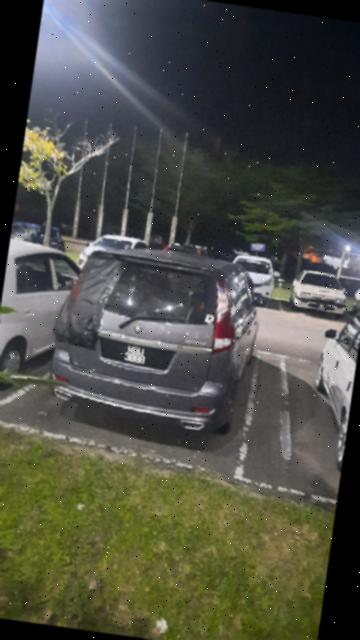License_Plate: (91, 333, 179, 376)
car: (49, 235, 271, 442), (1, 229, 85, 389), (298, 300, 360, 472), (291, 269, 353, 317), (226, 253, 282, 305)
